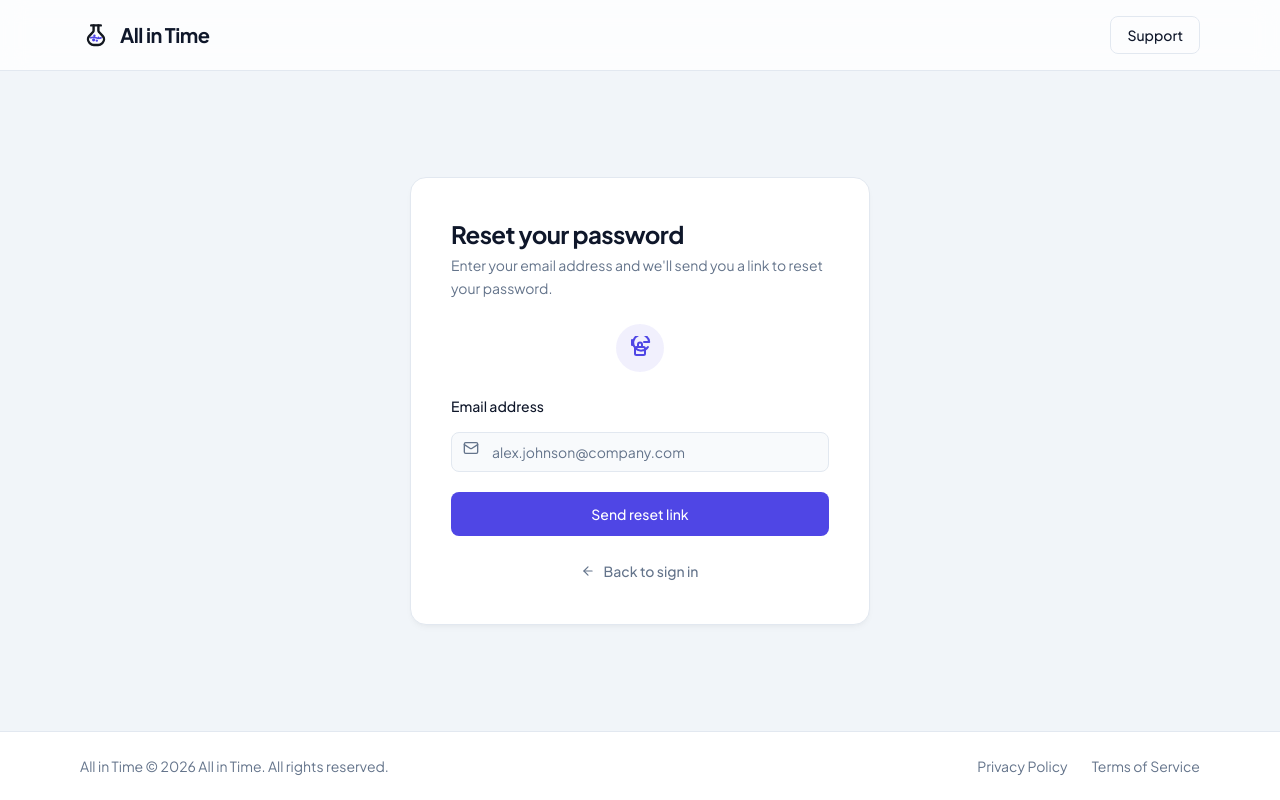
Test: ForgotPasswordPage › shows the same generic message the backend returns, regardless of whether the email exists
Type "anyone@company.com" into the field labelled "Email address". click: (640, 452)
box: [451,432,829,472]
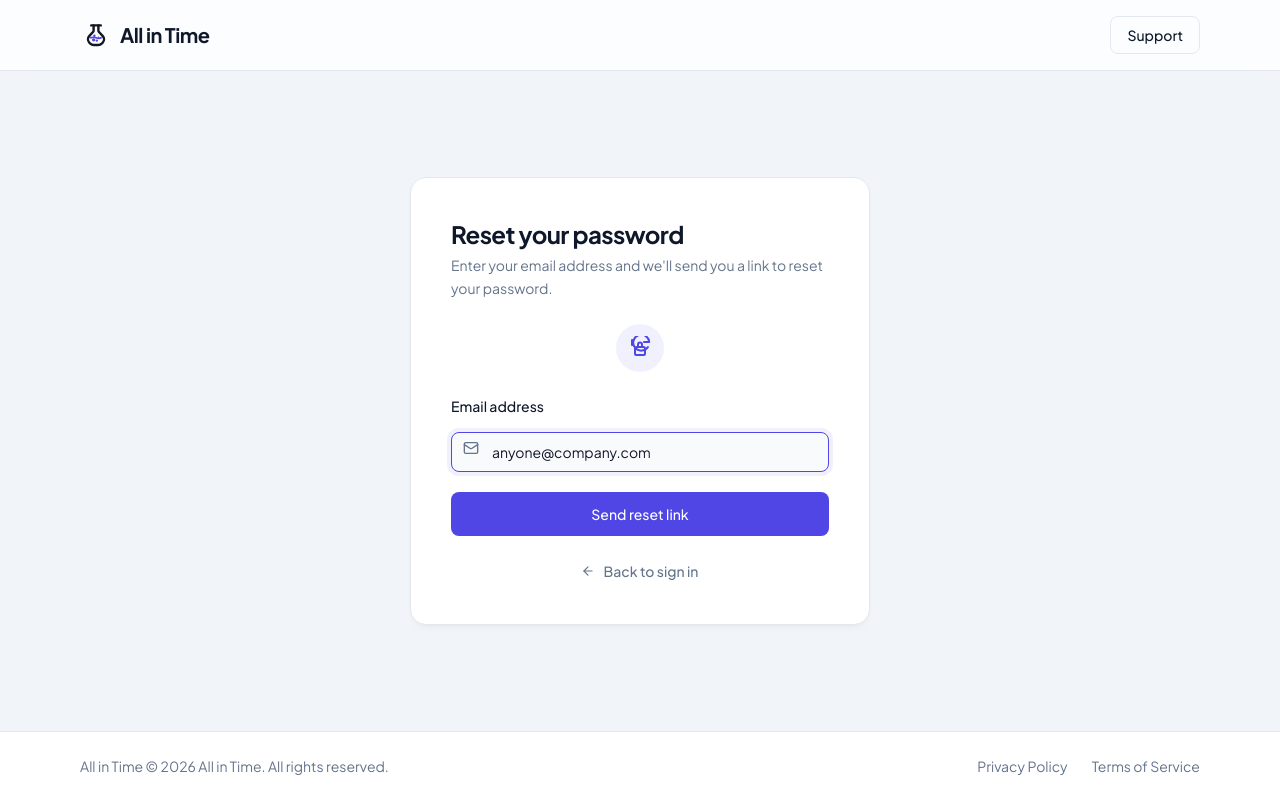
Click the button "Send reset link". click: (640, 514)
box: [451,492,829,536]
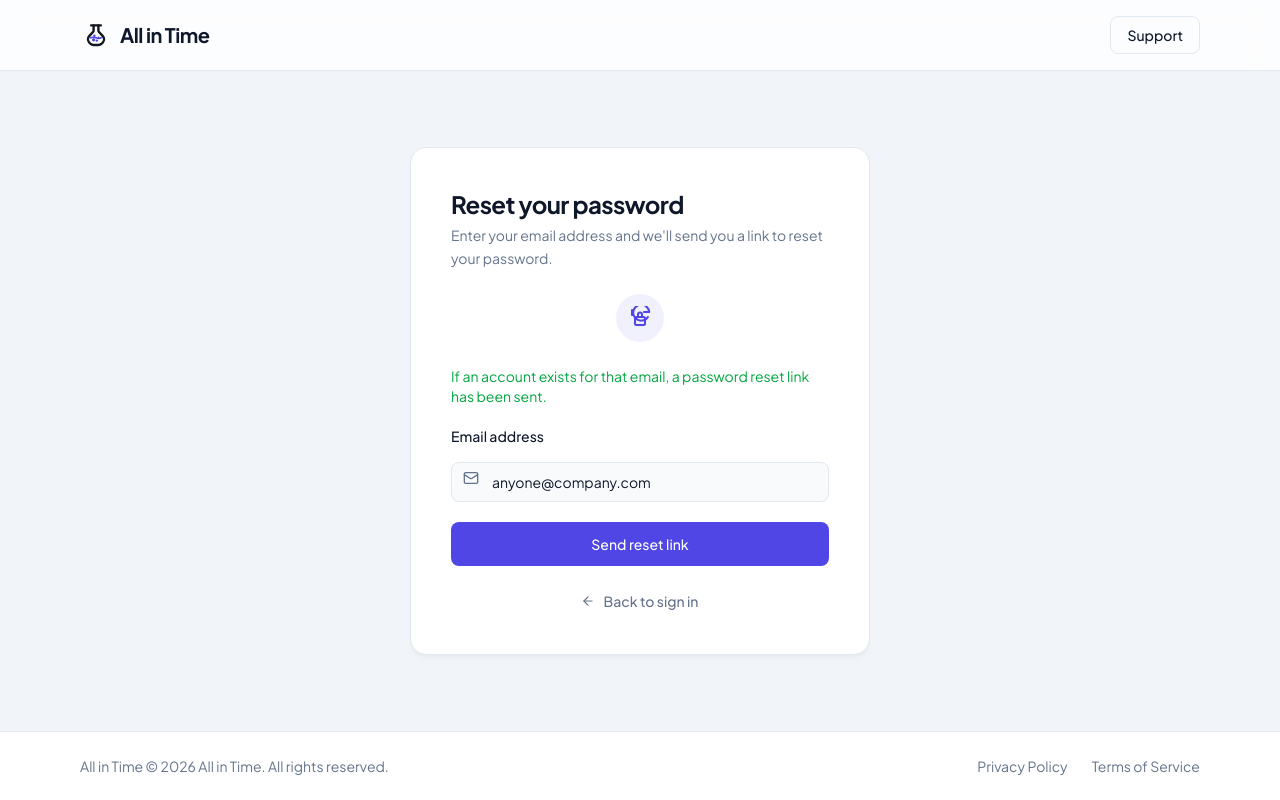
Result: the text "If an account exists for that email, a password reset link has been sent." is shown at [451,366,829,406]
